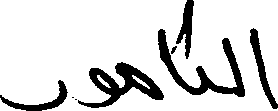ا: (248, 26, 277, 110), (159, 5, 183, 100)
ر: (0, 78, 66, 109)
ك: (183, 0, 222, 96)
ل: (221, 36, 244, 98)
م: (119, 27, 160, 101)
و: (80, 61, 118, 108)
